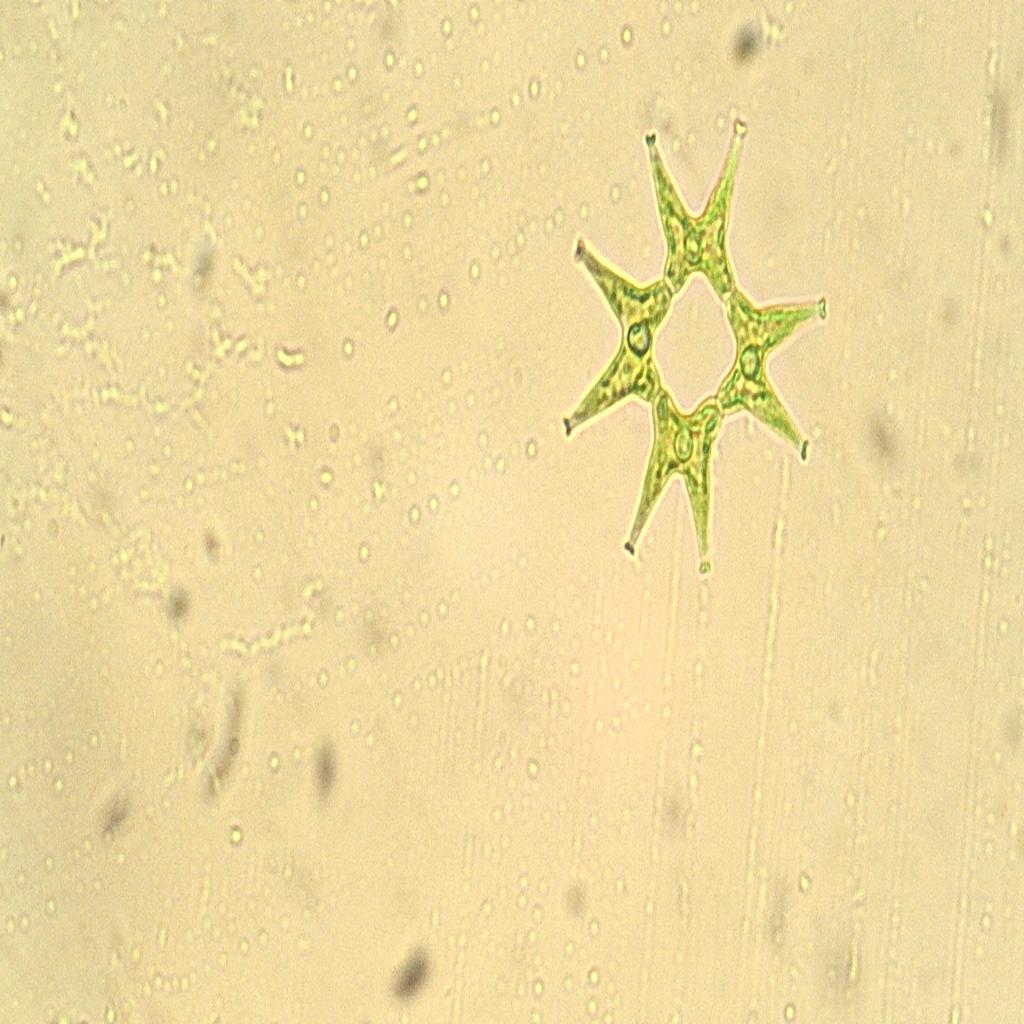Pediastrum_CO: (543, 109, 843, 583)
